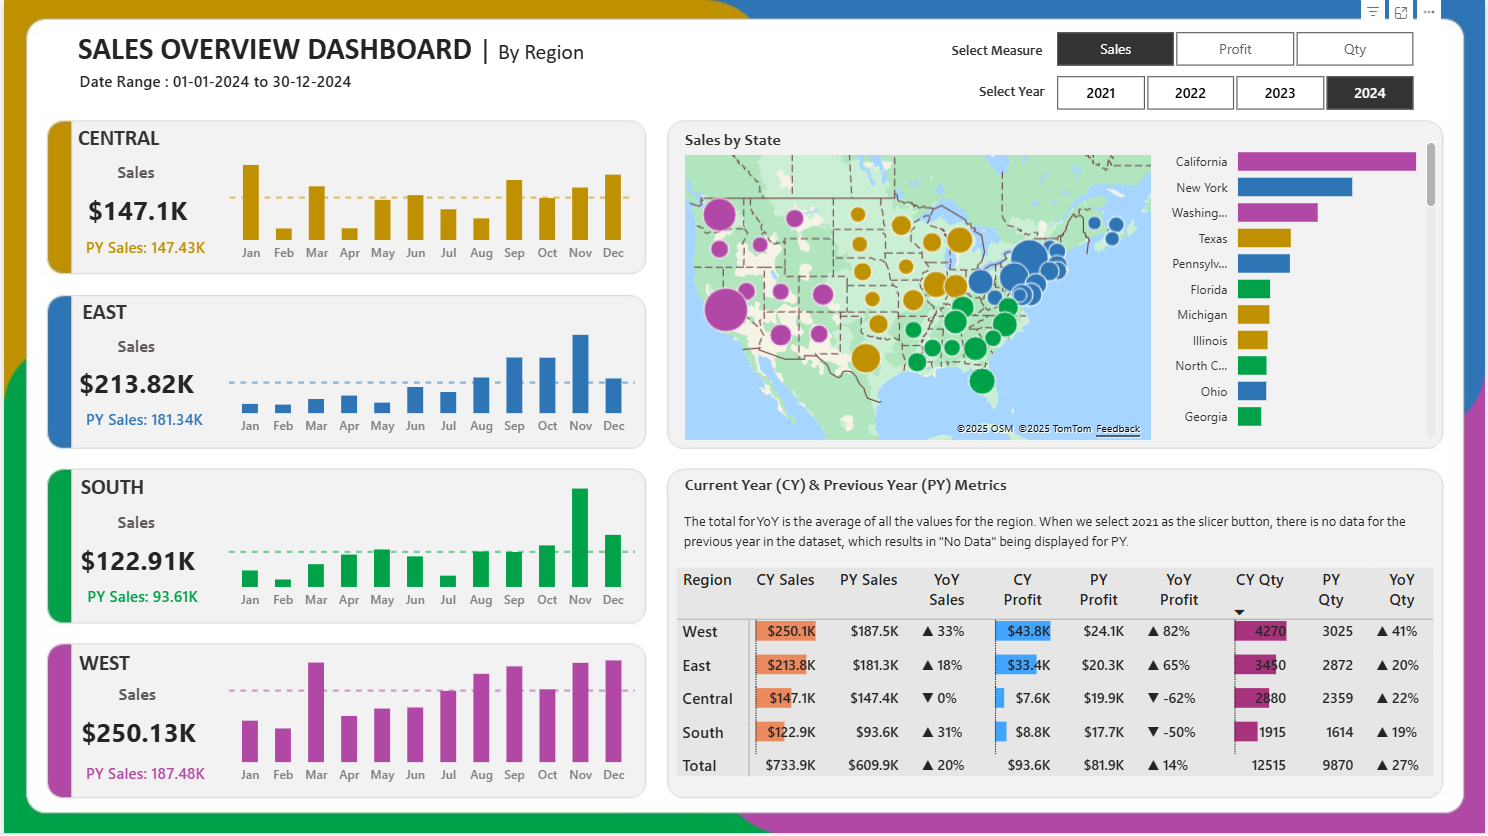

This screenshot's page, from the dashboard's own definition file:
{"tool":"powerbi","page":{"name":"Sales Overview Report","canvas":[1280,720],"ordinal":0},"visuals":[{"type":"clusteredColumnChart","fields":{"Y":["Orders.Total Qty"],"Category":["Calendar Table.Month"]},"box":[190,103.6,360,132.7],"z":0},{"type":"textbox","box":[48.6,102.1,101.2,33.1],"z":1000},{"type":"card","fields":{"Values":["Orders.Total Qty"]},"box":[56.7,164.4,116.7,36.7],"z":2000},{"type":"slicer","fields":{"Values":["Parameter.Parameter"]},"box":[884.5,20.9,358.2,42.7],"z":3000},{"type":"card","fields":{"Values":["Orders.Title"]},"box":[81.1,136.7,65.6,25.6],"z":4000},{"type":"clusteredColumnChart","fields":{"Y":["Orders.Total Qty"],"Category":["Calendar Table.Month"]},"box":[188.9,254.4,361.4,132],"z":5000},{"type":"textbox","box":[36.2,252.7,100.9,32.8],"z":6000},{"type":"card","fields":{"Values":["Orders.Total Qty"]},"box":[56.3,314.5,116.4,36.2],"z":7000},{"type":"card","fields":{"Values":["Orders.Title"]},"box":[82.2,287.8,64.4,26.7],"z":8000},{"type":"clusteredColumnChart","fields":{"Y":["Orders.Total Qty"],"Category":["Calendar Table.Month"]},"box":[189.1,404.5,360.9,131.8],"z":9000},{"type":"textbox","box":[43.1,403.7,100.9,32.8],"z":10000},{"type":"card","fields":{"Values":["Orders.Total Qty"]},"box":[56.7,466.7,116.7,36.7],"z":11000},{"type":"card","fields":{"Values":["Orders.Title"]},"box":[82.2,438.9,64.4,25.6],"z":12000},{"type":"clusteredColumnChart","fields":{"Y":["Orders.Total Qty"],"Category":["Calendar Table.Month"]},"box":[188.9,555.5,361.4,132],"z":13000},{"type":"textbox","box":[36.2,555.5,100.9,32.8],"z":14000},{"type":"card","fields":{"Values":["Orders.Total Qty"]},"box":[57.5,615.8,116.7,36.7],"z":15000},{"type":"card","fields":{"Values":["Orders.Title"]},"box":[83.3,588.9,64.4,26.7],"z":16000},{"type":"textbox","box":[26.1,20.6,513.5,46.7],"z":17000},{"type":"azureMap","title":"Sales by State","fields":{"Size":["Orders.Total Qty"],"Category":["Orders.State/Province"],"Series":["Orders.Region"]},"box":[583.3,112.5,413.3,273.3],"z":18000},{"type":"barChart","fields":{"Y":["Orders.Total Qty"],"Category":["Orders.State/Province"],"Series":["Orders.Region"]},"box":[990.9,110,251.8,273.6],"z":19000},{"type":"pivotTable","fields":{"Rows":["Orders.Region"],"Values":["Orders.CY Sales","Orders.PY Sales","Orders.YoY Sales","Orders.CY Profit","Orders.PY Profit","Orders.YoY Profit","Orders.CY Qty","Orders.PY Qty","Orders.YoY Qty"]},"box":[576.2,485.6,666.7,197.5],"z":20000},{"type":"slicer","fields":{"Values":["Calendar Table.Year"]},"box":[884.5,59.1,358.2,42.7],"z":21000},{"type":"card","fields":{"Values":["Orders.SalesPreviousYear"]},"box":[51.7,199.2,140.8,35],"z":22000},{"type":"card","fields":{"Values":["Orders.SalesPreviousYear"]},"box":[50.8,346.7,140.8,35.8],"z":23000},{"type":"card","fields":{"Values":["Orders.SalesPreviousYear"]},"box":[48.9,500,141.1,35.6],"z":24000},{"type":"card","fields":{"Values":["Orders.SalesPreviousYear"]},"box":[51.7,652.5,140.8,35.8],"z":25000},{"type":"textbox","box":[583.6,404.5,337.3,34.5],"z":26000},{"type":"card","fields":{"Values":["Orders.Date Range"]},"box":[33.6,55.5,298.2,34.5],"z":27000},{"type":"textbox","box":[806.4,28.2,103.6,30],"z":28000},{"type":"textbox","box":[819.1,63.6,103.6,30],"z":29000},{"type":"textbox","box":[582.7,435.5,643.6,51.8],"z":30000}]}

Visuals, with their boxes in screenshot pixels (x1, y1, x2, y2), scaled from the page's 1280x720 canvas onto the 1488x836 screenshot:
clusteredColumnChart - Orders.Total Qty x Calendar Table.Month: pyautogui.locateOnScreen(221, 120, 639, 274)
textbox: pyautogui.locateOnScreen(56, 119, 174, 157)
card - Orders.Total Qty: pyautogui.locateOnScreen(66, 191, 202, 233)
slicer - Parameter.Parameter: pyautogui.locateOnScreen(1028, 24, 1445, 74)
card - Orders.Title: pyautogui.locateOnScreen(94, 159, 171, 188)
clusteredColumnChart - Orders.Total Qty x Calendar Table.Month: pyautogui.locateOnScreen(220, 295, 640, 449)
textbox: pyautogui.locateOnScreen(42, 293, 159, 331)
card - Orders.Total Qty: pyautogui.locateOnScreen(65, 365, 201, 407)
card - Orders.Title: pyautogui.locateOnScreen(96, 334, 170, 365)
clusteredColumnChart - Orders.Total Qty x Calendar Table.Month: pyautogui.locateOnScreen(220, 470, 639, 623)
textbox: pyautogui.locateOnScreen(50, 469, 167, 507)
card - Orders.Total Qty: pyautogui.locateOnScreen(66, 542, 202, 585)
card - Orders.Title: pyautogui.locateOnScreen(96, 510, 170, 539)
clusteredColumnChart - Orders.Total Qty x Calendar Table.Month: pyautogui.locateOnScreen(220, 645, 640, 798)
textbox: pyautogui.locateOnScreen(42, 645, 159, 683)
card - Orders.Total Qty: pyautogui.locateOnScreen(67, 715, 203, 758)
card - Orders.Title: pyautogui.locateOnScreen(97, 684, 172, 715)
textbox: pyautogui.locateOnScreen(30, 24, 627, 78)
"Sales by State" azureMap: pyautogui.locateOnScreen(678, 131, 1159, 448)
barChart - Orders.Total Qty x Orders.State/Province: pyautogui.locateOnScreen(1152, 128, 1445, 445)
pivotTable - Orders.Region x Orders.CY Sales: pyautogui.locateOnScreen(670, 564, 1445, 793)
slicer - Calendar Table.Year: pyautogui.locateOnScreen(1028, 69, 1445, 118)
card - Orders.SalesPreviousYear: pyautogui.locateOnScreen(60, 231, 224, 272)
card - Orders.SalesPreviousYear: pyautogui.locateOnScreen(59, 403, 223, 444)
card - Orders.SalesPreviousYear: pyautogui.locateOnScreen(57, 581, 221, 622)
card - Orders.SalesPreviousYear: pyautogui.locateOnScreen(60, 758, 224, 799)
textbox: pyautogui.locateOnScreen(678, 470, 1071, 510)
card - Orders.Date Range: pyautogui.locateOnScreen(39, 64, 386, 105)
textbox: pyautogui.locateOnScreen(937, 33, 1058, 68)
textbox: pyautogui.locateOnScreen(952, 74, 1073, 109)
textbox: pyautogui.locateOnScreen(677, 506, 1426, 566)
